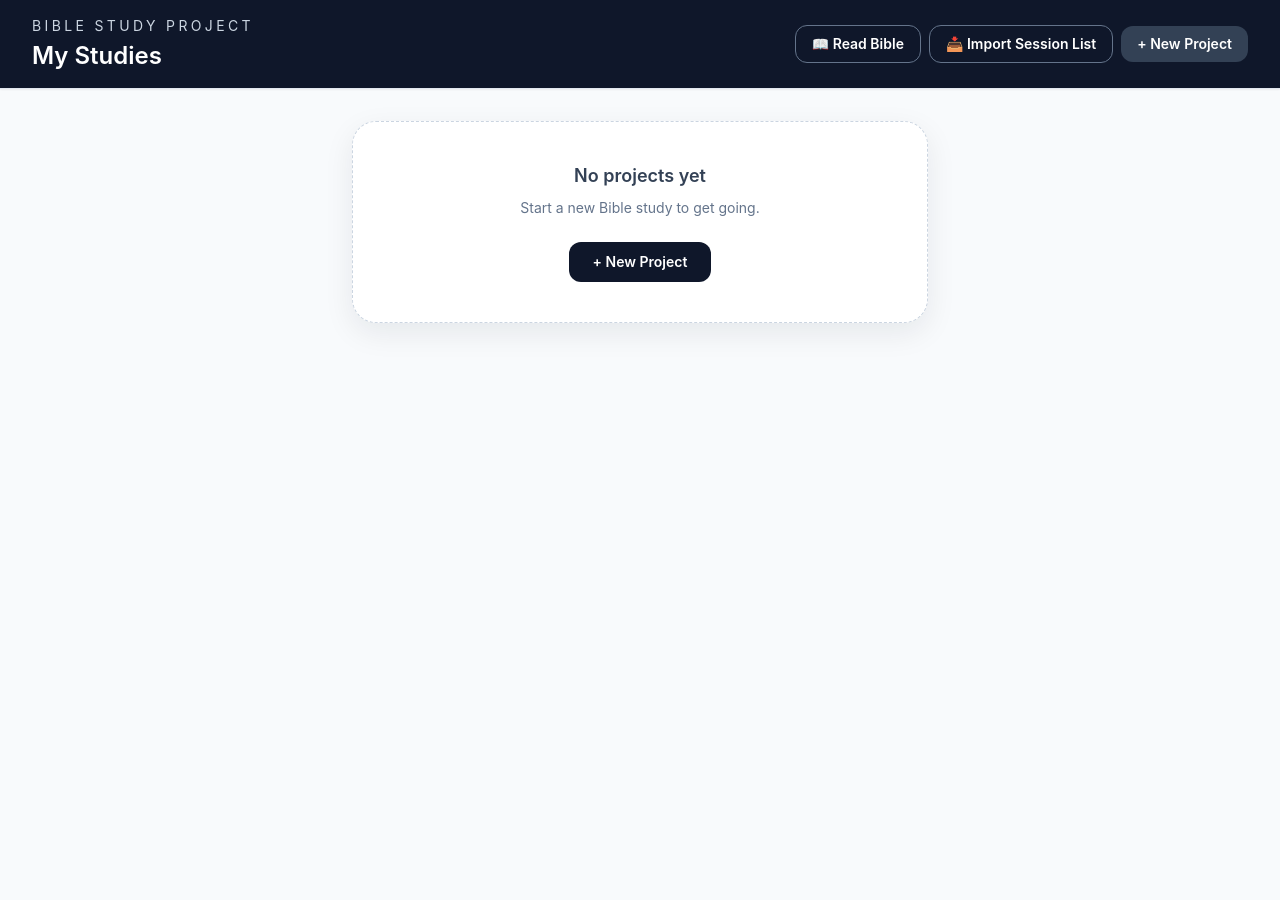
Test: Loading a chapter › transitions to the chunk setup view on success
Click the button "+ New Project" in the row of "Bible Study Project".
click(1185, 44)  # box [1121, 26, 1248, 62]
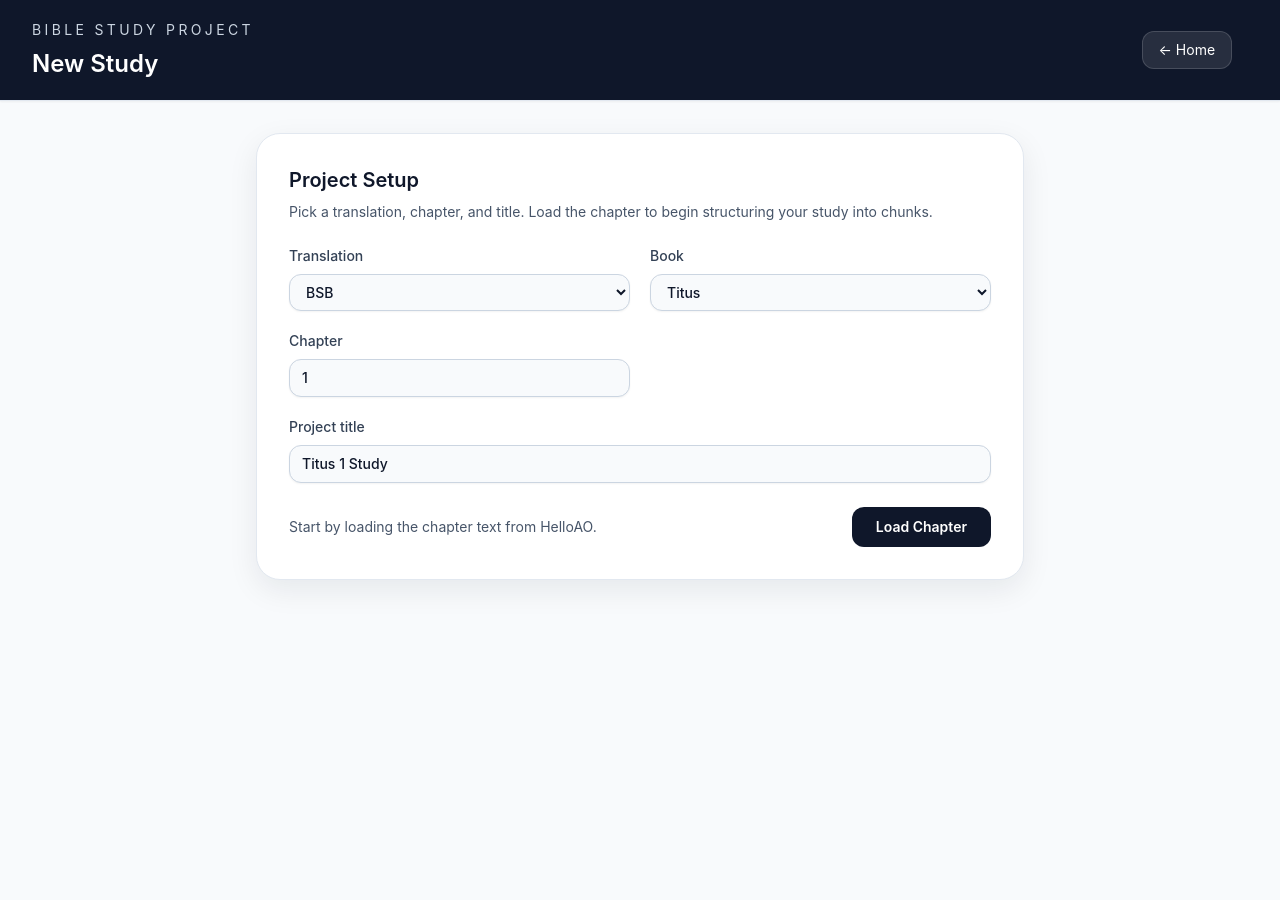
Click the button "Load Chapter".
click(921, 527)  # box [852, 507, 991, 547]
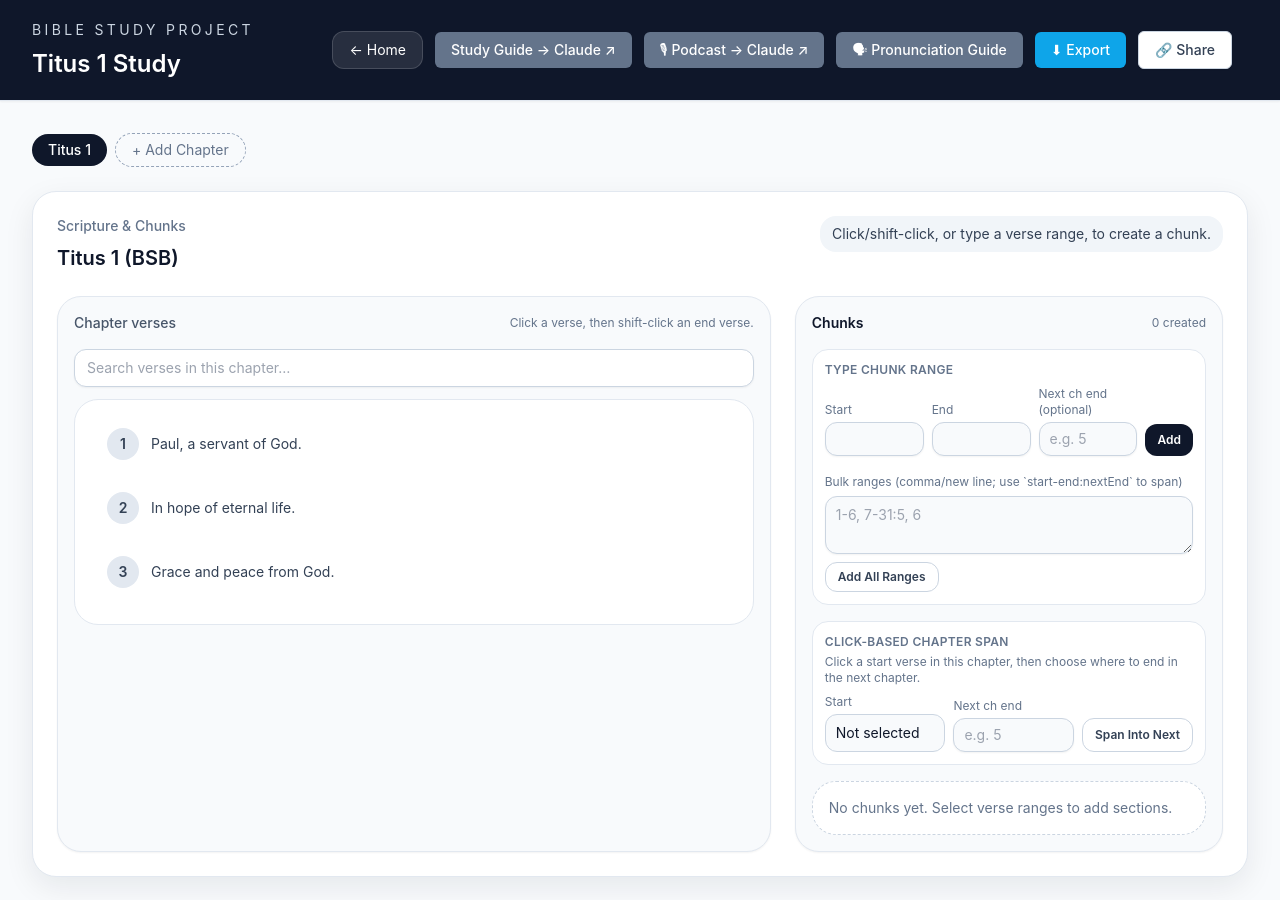
Now the text "Scripture & Chunks" is shown, box [57, 216, 186, 236]
